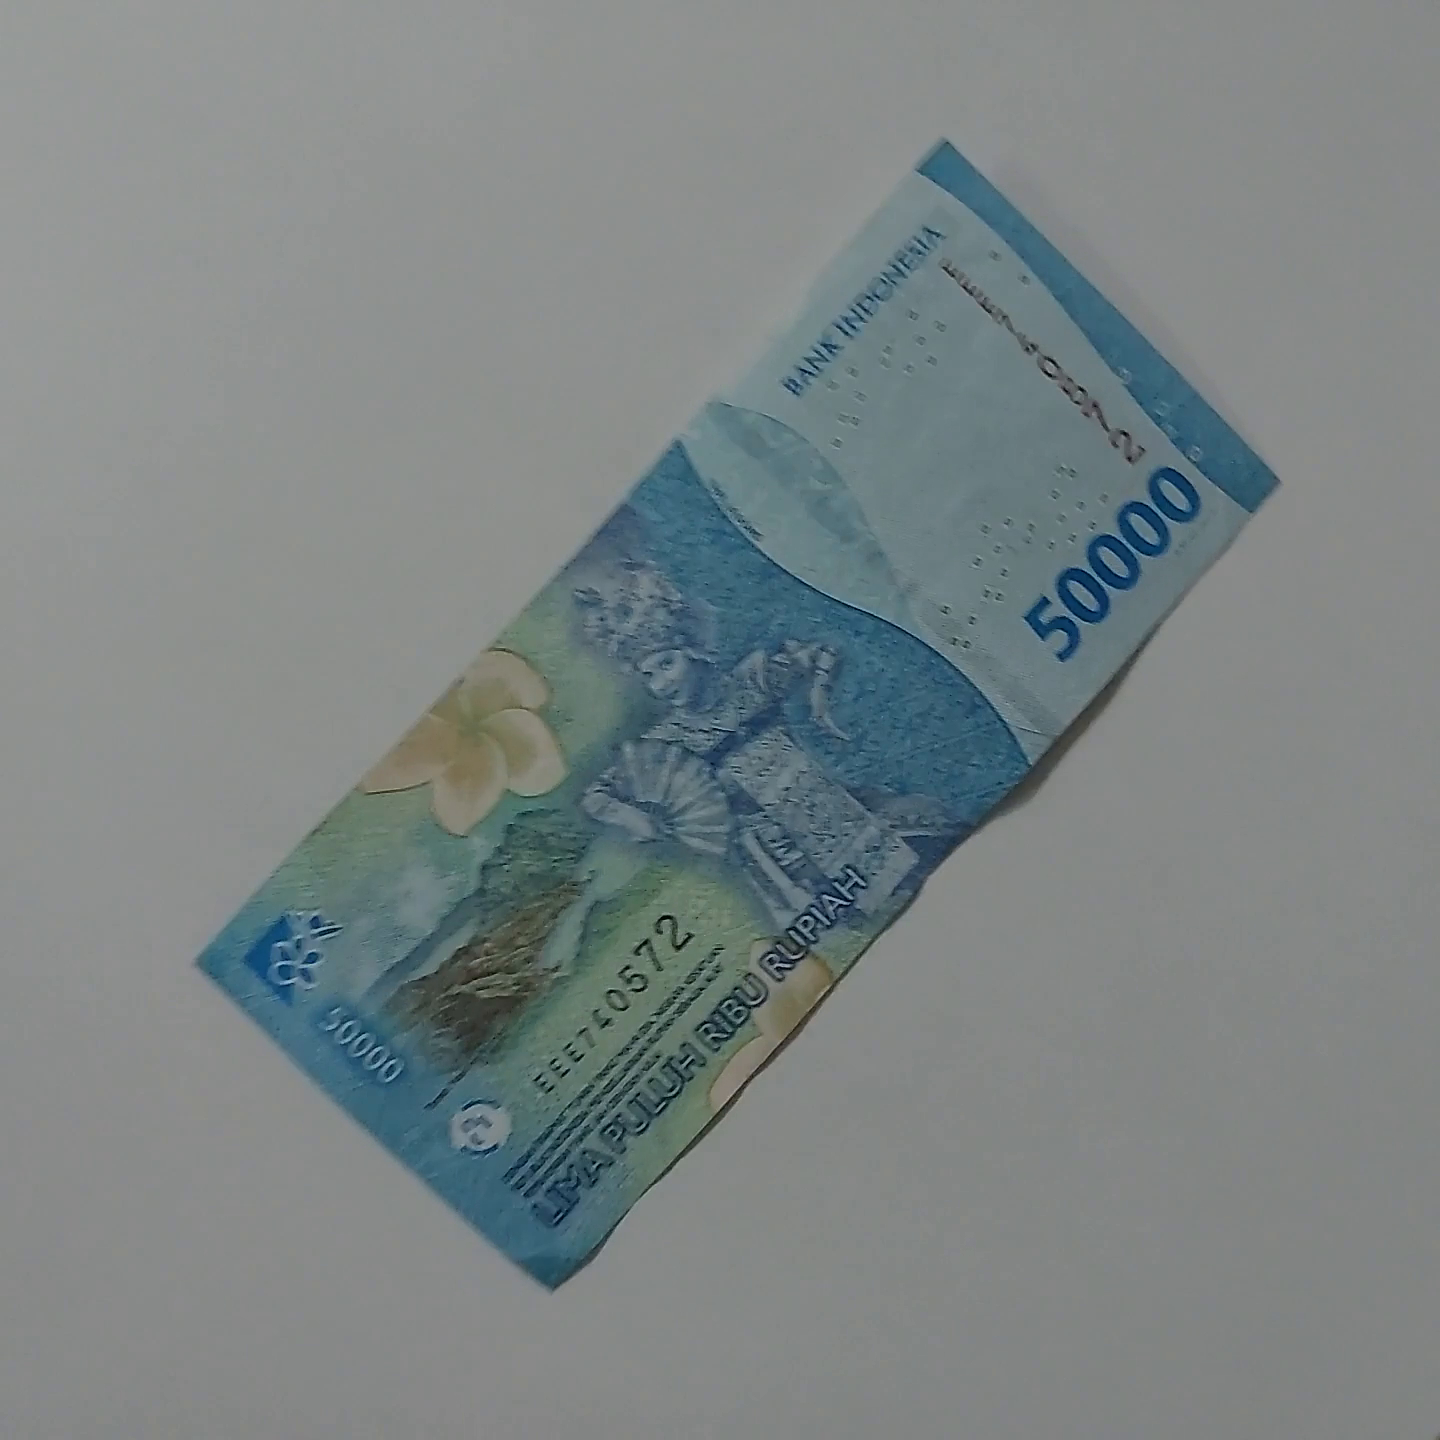50k: (162, 980, 1329, 1440)
